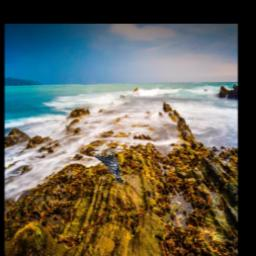Crow: (94, 149, 124, 184)
